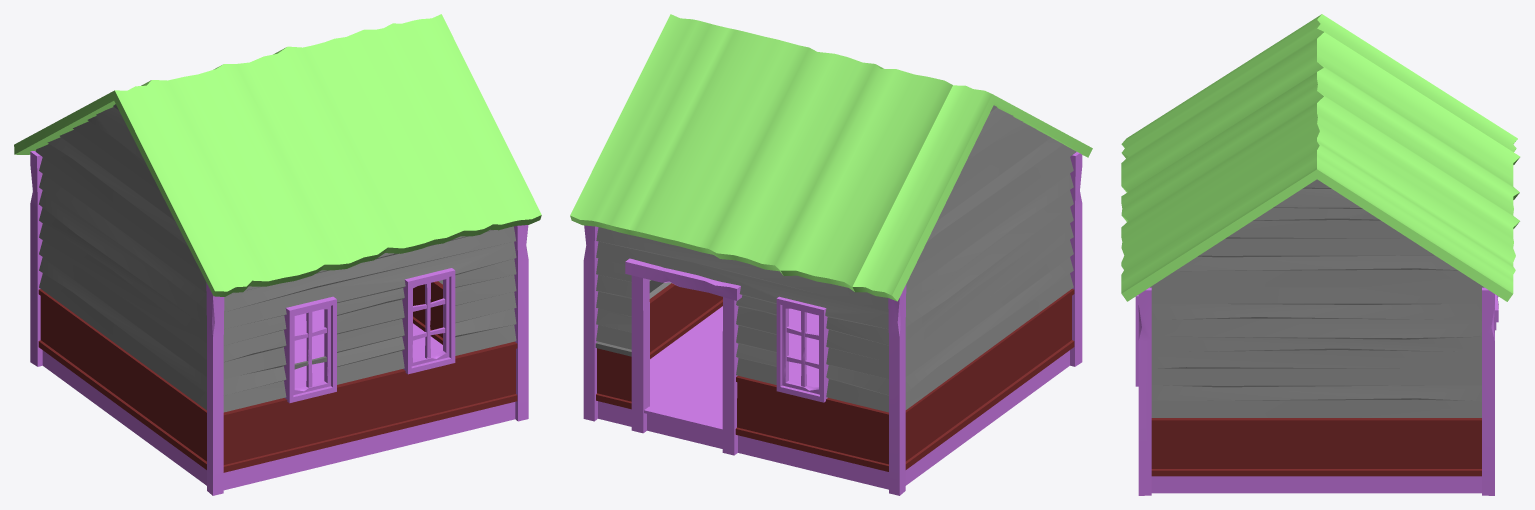
File: SM_Cabin.fbx
The picture shows the model from 3 angles, left to right: view 1: azimuth 30°, elevation 25°; view 2: azimuth 150°, elevation 25°; view 3: azimuth 270°, elevation 25°; orthographic projection. The views are drawn at different scales.
Visible parts, largest first — view 1: Object011; view 2: Object011; view 3: Object011.
Boxes of the visible parts, bbox=[...] form: Object011: bbox=[14, 14, 541, 495]; Object011: bbox=[570, 14, 1092, 495]; Object011: bbox=[1121, 14, 1520, 495].
Size of the model in its own units: 540 by 532 by 582.
